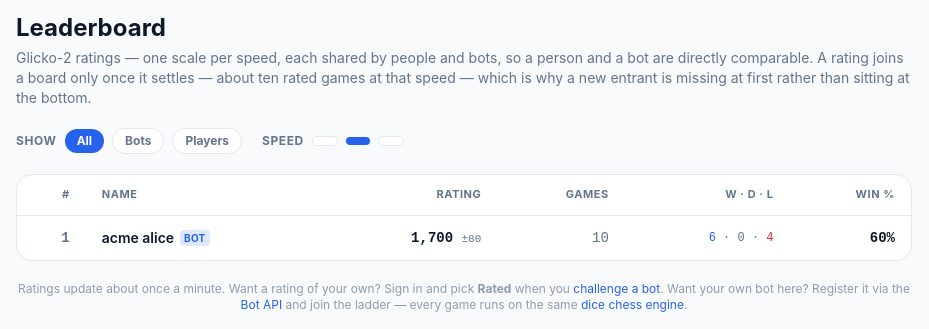
it: leaderboard page › clears the previous population while a new scope is loading
The image size is (929, 329).
Expected: the link "acme alice" is shown, left=102, top=228, right=174, bottom=248
Step 1. Click the button "Players" → (207, 141), box left=172, top=128, right=242, bottom=154
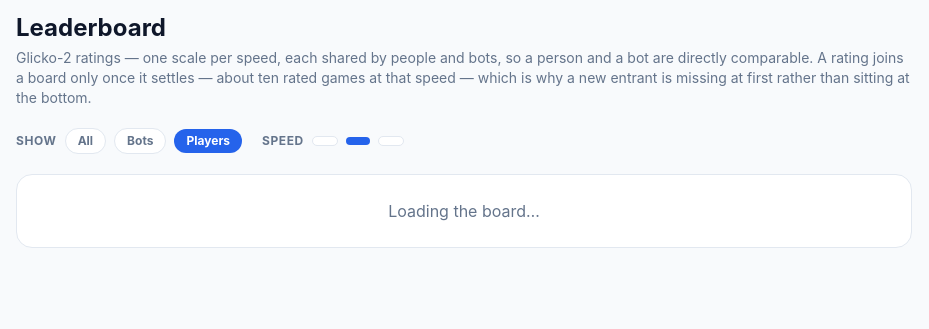
Result: the link "acme alice" is gone
Result: the text "Loading the board…" is shown at left=16, top=174, right=912, bottom=248
